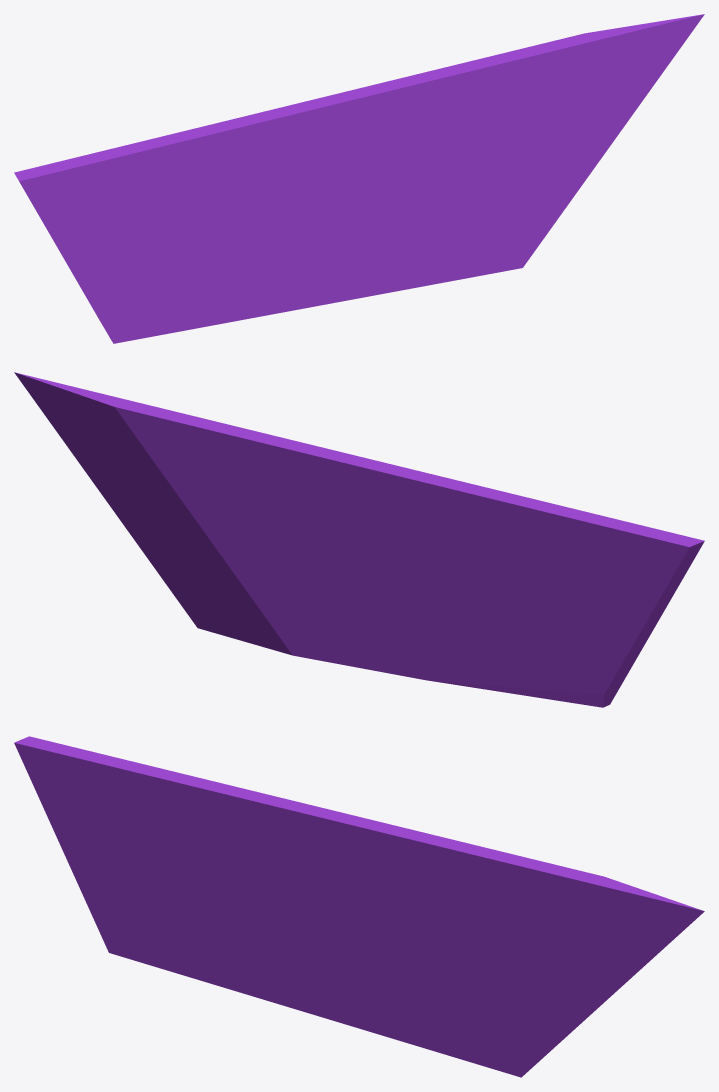
File: Glass_3_6_chunks.fbx
3 views of the same model, one above another, from view 1: azimuth 30°, elevation 25°; view 2: azimuth 150°, elevation 25°; view 3: azimuth 330°, elevation 25° (orthographic).
Parts seen in each view (by area): view 1: Glass_3_6_5, Glass_3_6_0, Glass_3_6_3, Glass_3_6_7, Glass_3_6_8, Glass_3_6_4, Glass_3_6_6, Glass_3_6_9, Glass_3_6_2; view 2: Glass_3_6_5, Glass_3_6_0, Glass_3_6_7, Glass_3_6_3, Glass_3_6_2, Glass_3_6_8, Glass_3_6_1, Glass_3_6_6, Glass_3_6_9; view 3: Glass_3_6_5, Glass_3_6_0, Glass_3_6_3, Glass_3_6_7, Glass_3_6_8, Glass_3_6_4, Glass_3_6_6, Glass_3_6_9, Glass_3_6_2.
Part boxes in pixels (box(x1,y1,x2,y2)): Glass_3_6_5: box(411, 14, 704, 272); Glass_3_6_0: box(56, 234, 321, 343); Glass_3_6_3: box(292, 190, 496, 305); Glass_3_6_7: box(14, 136, 186, 252); Glass_3_6_8: box(213, 90, 369, 198); Glass_3_6_4: box(324, 79, 432, 212); Glass_3_6_6: box(152, 185, 311, 245); Glass_3_6_9: box(159, 117, 282, 194); Glass_3_6_2: box(298, 72, 426, 222); Glass_3_6_5: box(14, 372, 302, 634); Glass_3_6_0: box(388, 597, 662, 707); Glass_3_6_7: box(520, 506, 704, 612); Glass_3_6_3: box(221, 554, 416, 673); Glass_3_6_2: box(276, 442, 413, 598); Glass_3_6_8: box(348, 454, 522, 577); Glass_3_6_1: box(344, 462, 463, 604); Glass_3_6_6: box(449, 566, 545, 603); Glass_3_6_9: box(440, 476, 563, 535); Glass_3_6_5: box(409, 837, 704, 1077); Glass_3_6_0: box(56, 835, 318, 1016); Glass_3_6_3: box(288, 922, 495, 1069); Glass_3_6_7: box(14, 736, 182, 872); Glass_3_6_8: box(221, 785, 370, 903); Glass_3_6_4: box(321, 835, 430, 943); Glass_3_6_6: box(148, 838, 308, 929); Glass_3_6_9: box(154, 773, 279, 847); Glass_3_6_2: box(295, 820, 442, 923).
Size of the model in its own units: 1044 by 305 by 27.2.
